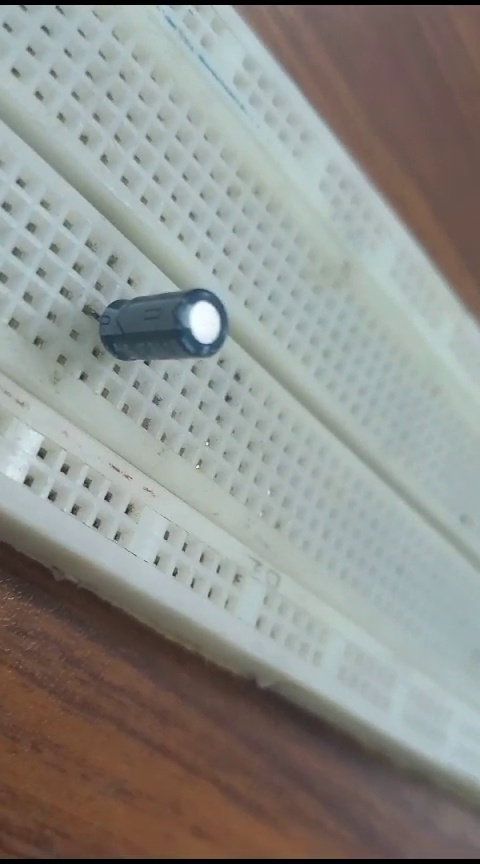capacitor: (63, 273, 244, 376)
